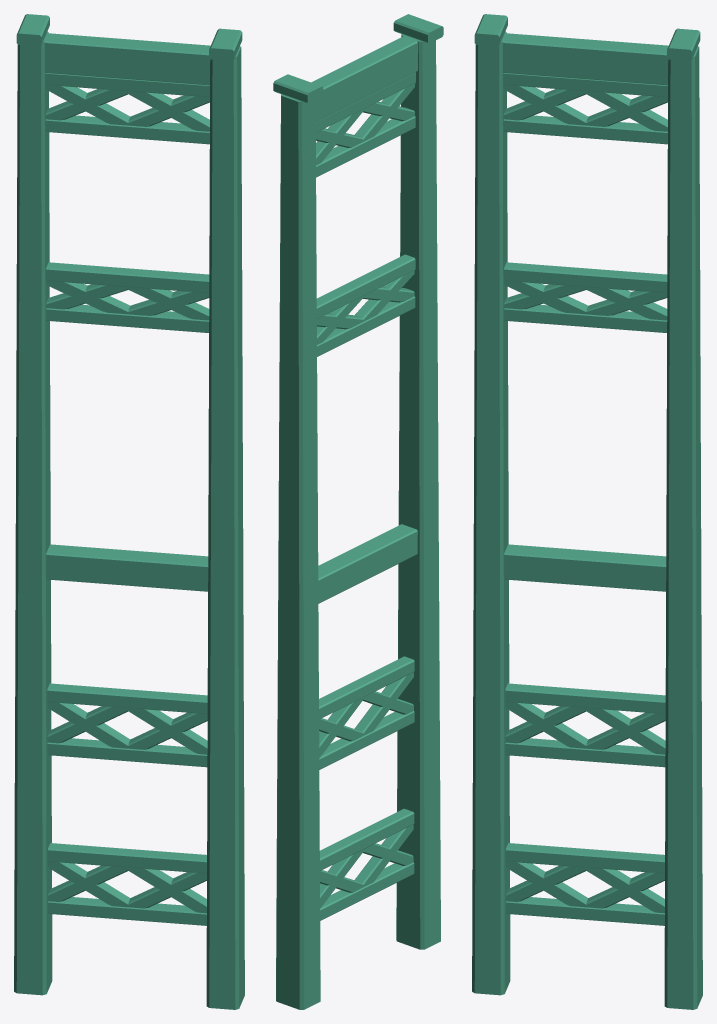
Rendered from detail.glb.
The picture shows the model from 3 angles, left to right: view 1: azimuth 90°, elevation 25°; view 2: azimuth 150°, elevation 25°; view 3: azimuth 270°, elevation 25°; orthographic projection. The views are drawn at different scales.
Visible parts, largest first — view 1: vincent-thomas-bridge-east-tower; view 2: vincent-thomas-bridge-east-tower; view 3: vincent-thomas-bridge-east-tower.
Boxes of the visible parts, box(x1,y1,x2,y2) form: vincent-thomas-bridge-east-tower: box(14, 14, 244, 1009); vincent-thomas-bridge-east-tower: box(273, 14, 443, 1009); vincent-thomas-bridge-east-tower: box(472, 14, 702, 1009).
Bounding box in the file's own units: 8.73 × 108 × 23.61.
